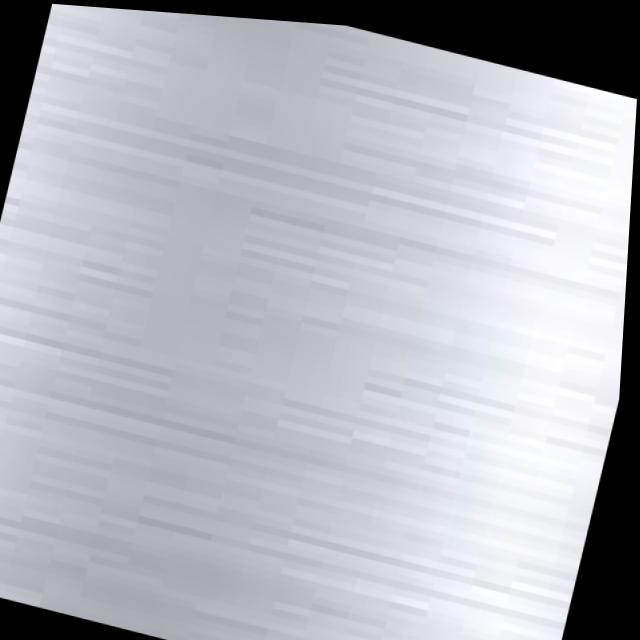metal-plates: (1, 4, 639, 640)
